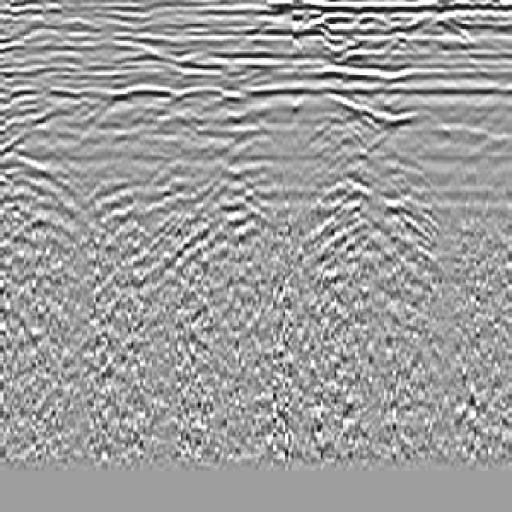metalic: (116, 52, 292, 284)
non-metallic: (286, 97, 453, 323)
